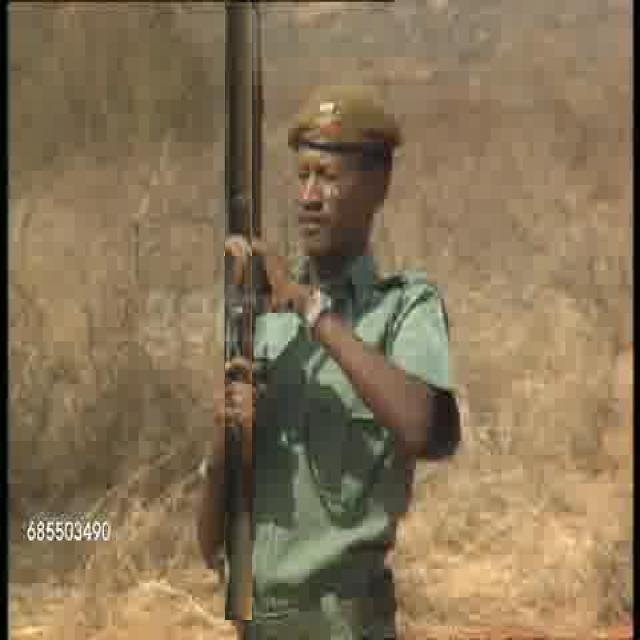poacher: (274, 85, 442, 628)
weapon: (225, 2, 252, 620)
